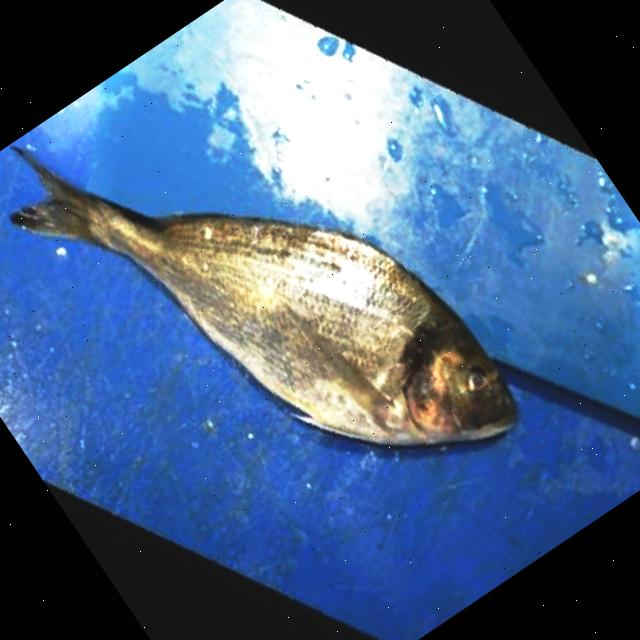Healthy Fish: (12, 151, 517, 449)
